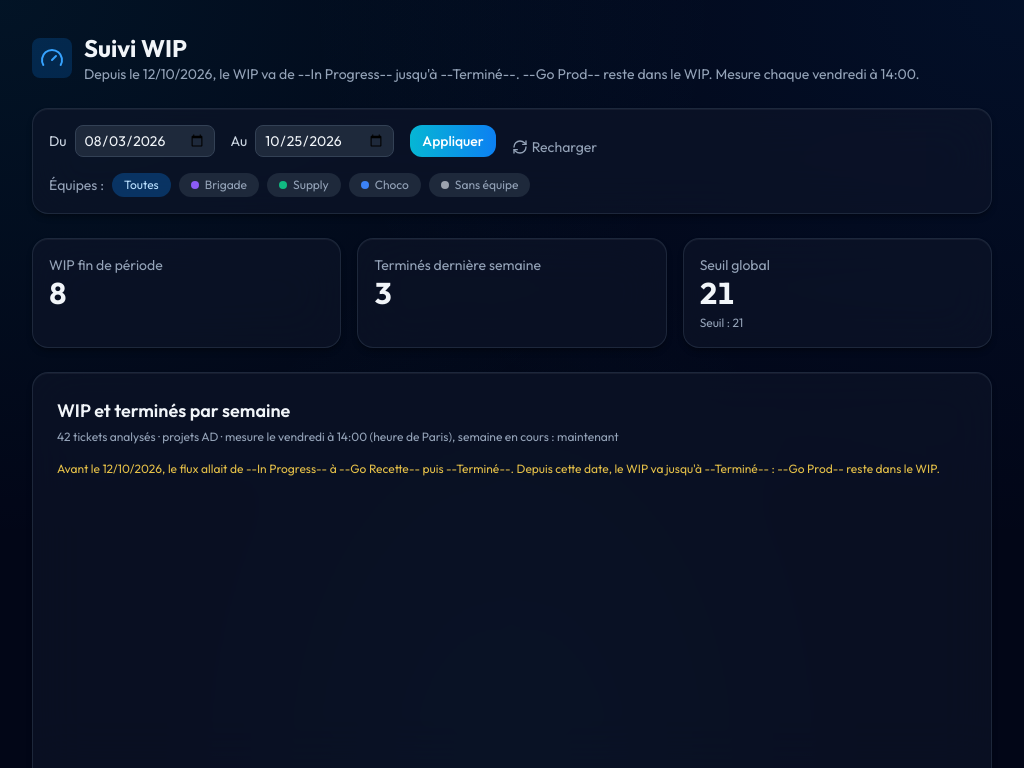
Test case: WipPage › CT-67 : période trop longue → message, aucune requête
The image size is (1024, 768).
Type "2025-08-01" into the date field labelled "Du".
click(145, 141); type("2025-08-01")  # box 75,125 -> 215,157
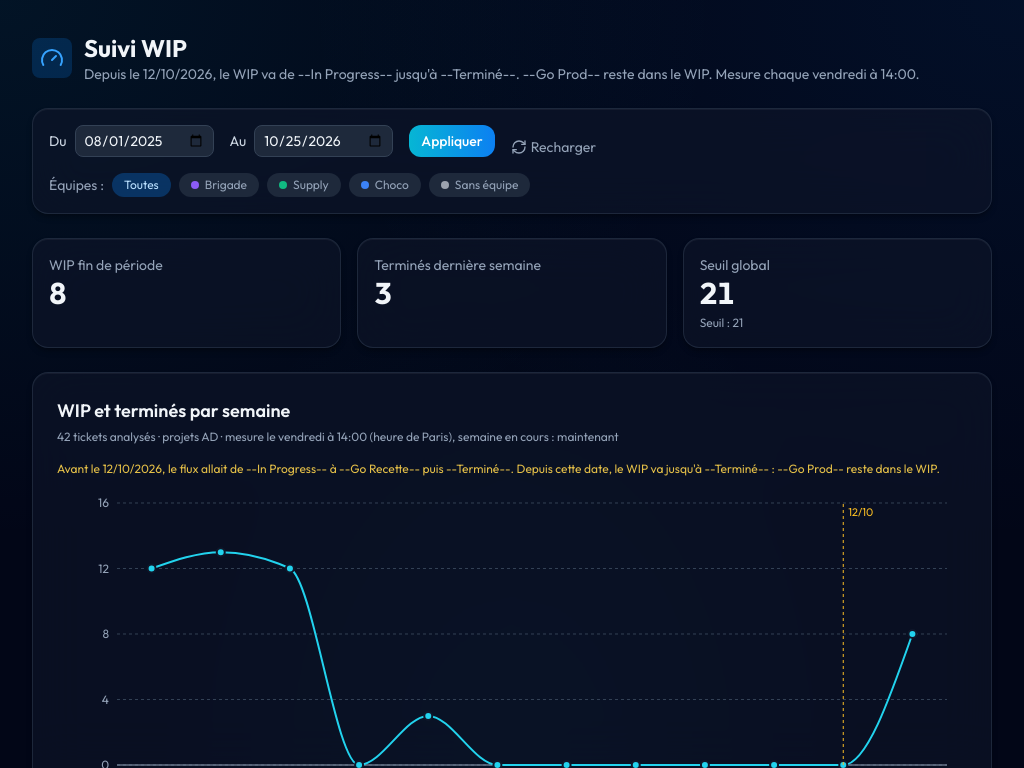
Click the button "Appliquer".
click(452, 141)  # box 409,125 -> 495,157
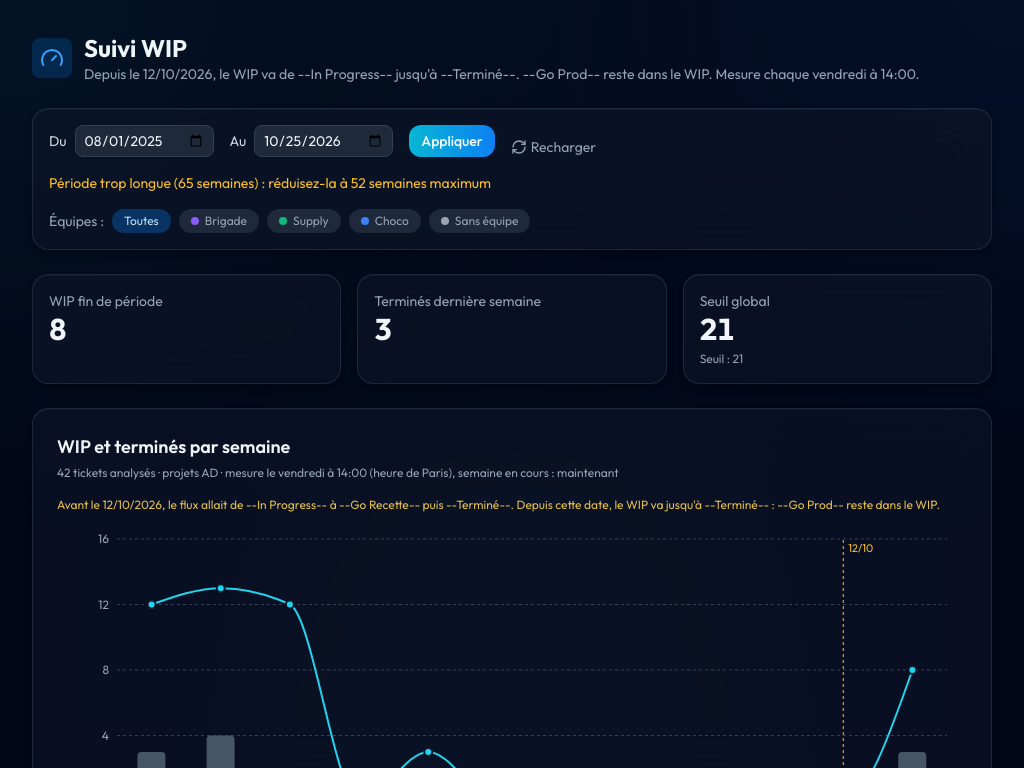
Result: the message shows "réduisez-la à 52 semaines maximum" at 49,174 -> 491,192
